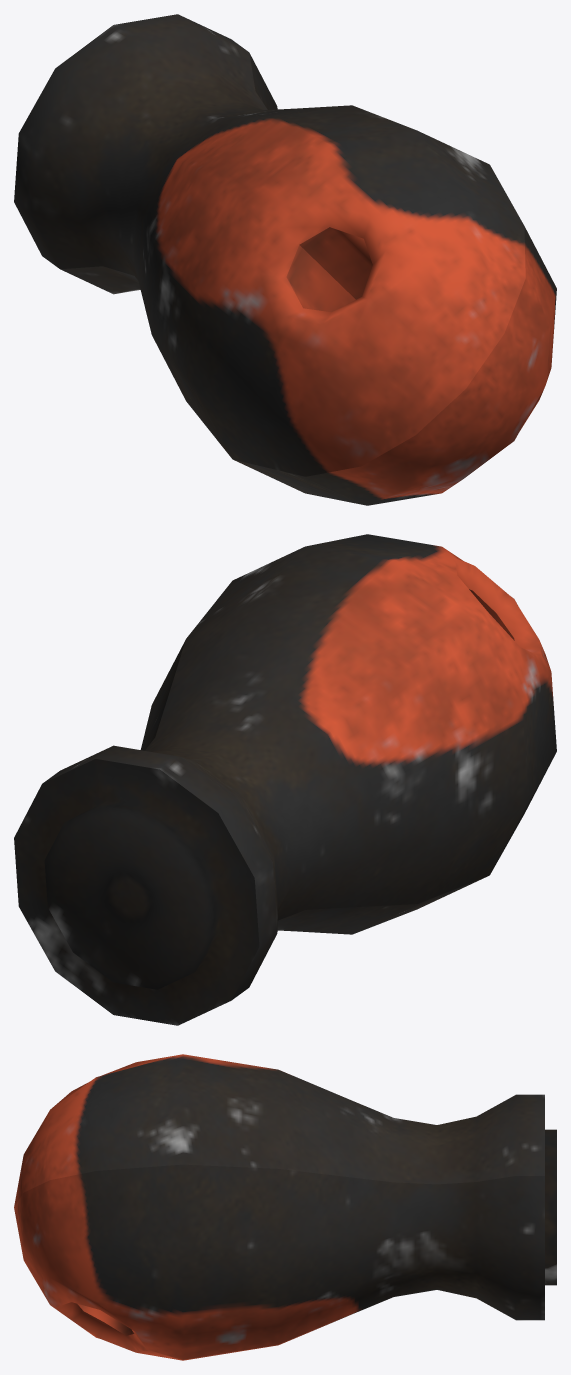
File: Screwdriver_S_Handle_low_2.obj
The picture shows the model from 3 angles, top to bottom: view 1: azimuth 30°, elevation 25°; view 2: azimuth 150°, elevation 25°; view 3: azimuth 270°, elevation 25°; orthographic projection. The views are drawn at different scales.
Bounding box in the file's own units: 0.0337 × 0.0337 × 0.0589.
Materials: 1 (1 with a texture image).
